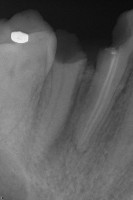Furcation Involvement: (22, 80, 91, 175)
